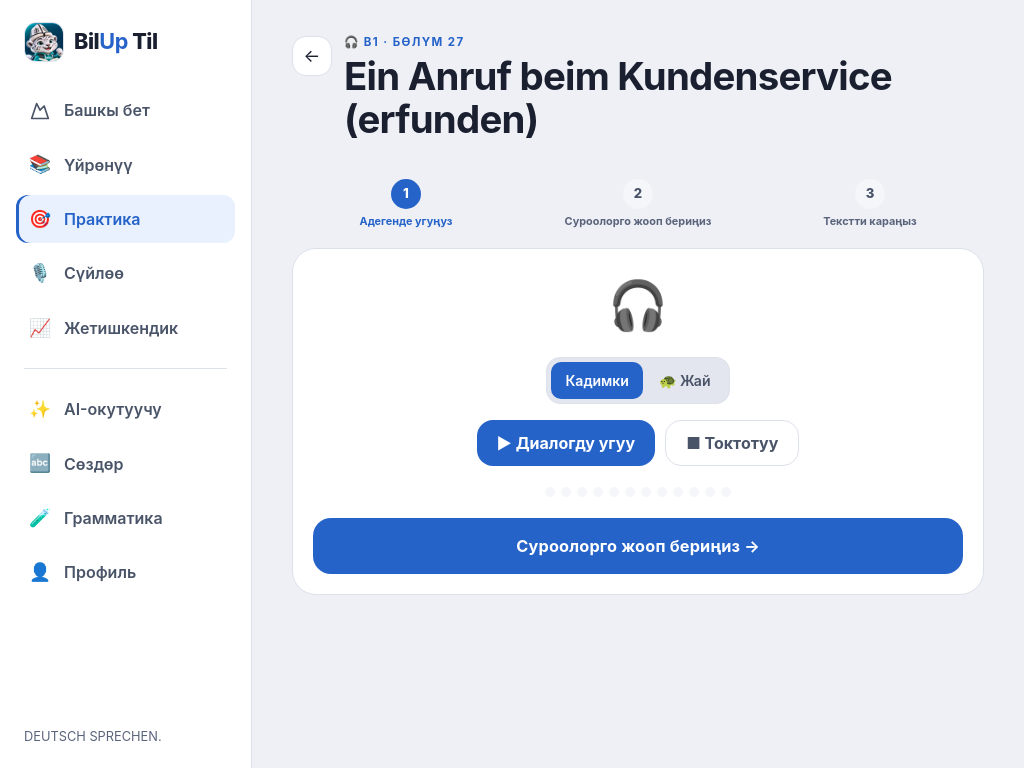
it: reading and listening flows › ky: the listening shows the transcript only through the existing flow and offers the questions
The image size is (1024, 768).
Click the button "Суроолорго жооп бериңиз →". click: (638, 546)
box: [313,518,963,574]
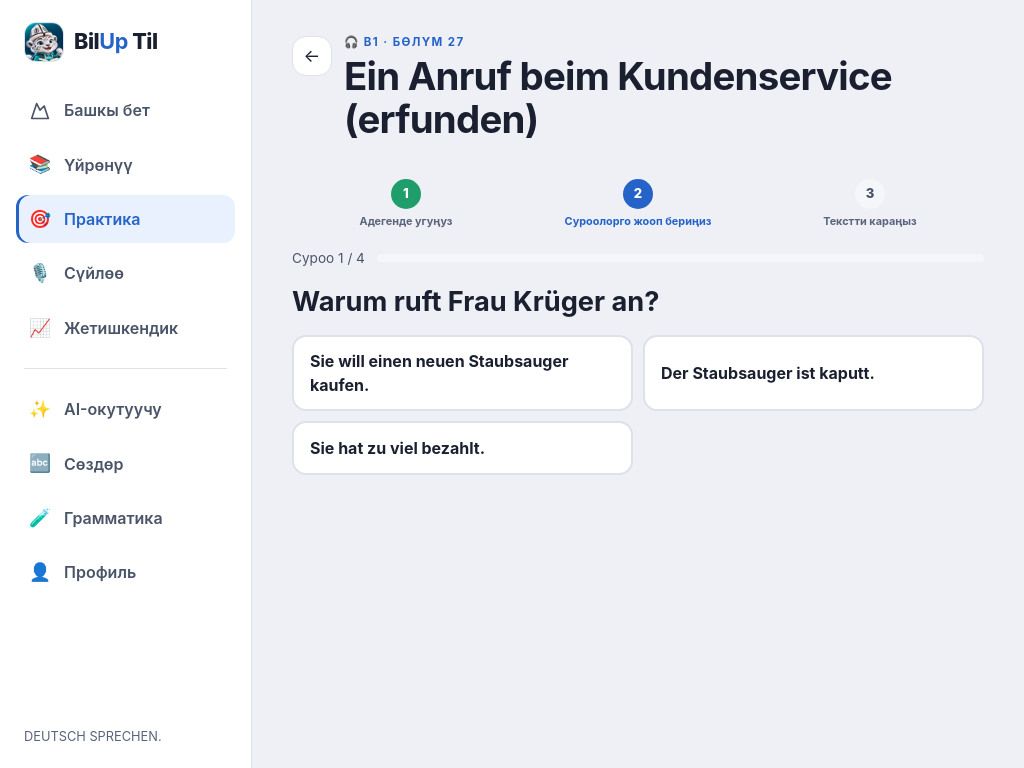
Expected: the text "Warum ruft Frau Krüger an?" is shown, [292,284,660,321]
